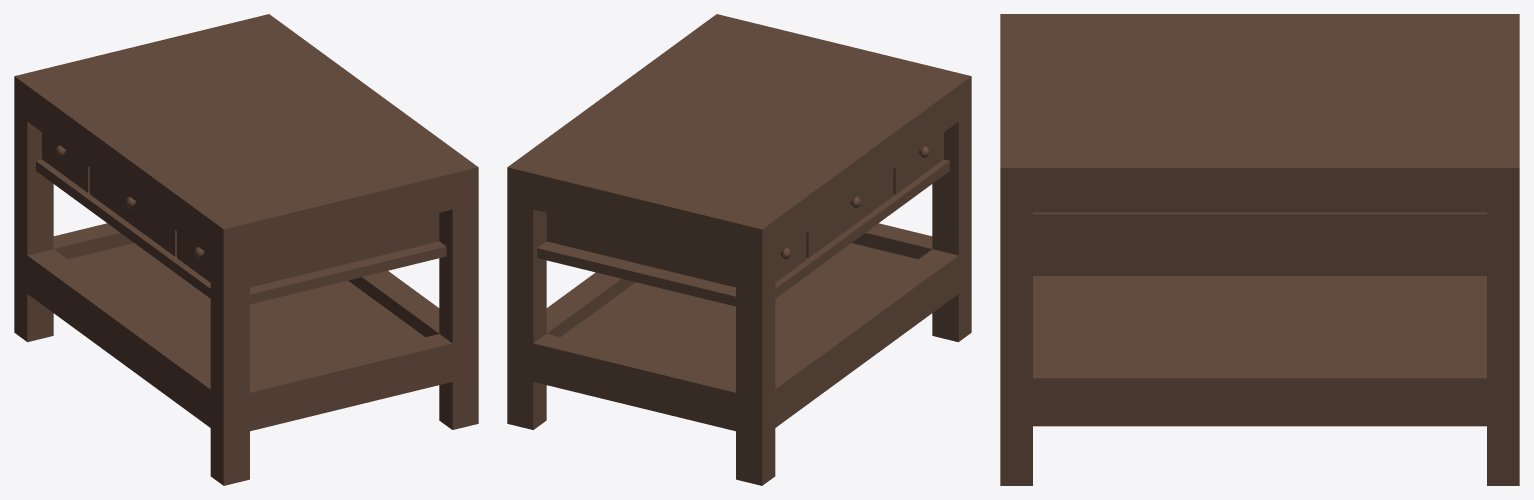
Rendered from meuble_sdb.fbx.
3 renders of one model, left to right at view 1: azimuth 30°, elevation 25°; view 2: azimuth 150°, elevation 25°; view 3: azimuth 270°, elevation 25°, orthographic. The views are drawn at different scales.
Visible parts, largest first — view 1: pSphere4; view 2: pSphere4; view 3: pSphere4.
Boxes of the visible parts, <box> form: pSphere4: <box>14,14,478,485</box>; pSphere4: <box>507,14,971,485</box>; pSphere4: <box>1000,14,1519,485</box>.
Bounding box in the file's own units: 722 × 695 × 1028.
